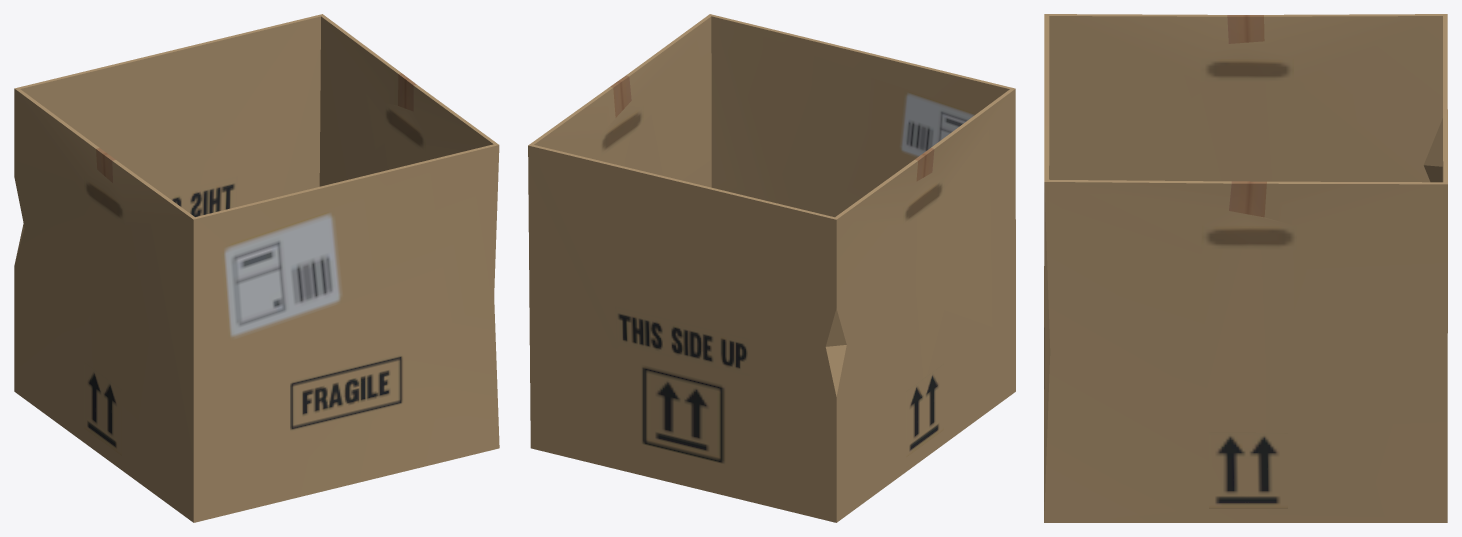
Rendered from SM_Prop_Warehouse_Cardboard_Box_03.002.obj.
3 views of the same model, side by side, from view 1: azimuth 30°, elevation 25°; view 2: azimuth 150°, elevation 25°; view 3: azimuth 270°, elevation 25° (orthographic). The views are drawn at different scales.
Parts seen in each view (by area): view 1: SM_Prop_Warehouse_Cardboard_Box_03.002_0; view 2: SM_Prop_Warehouse_Cardboard_Box_03.002_0; view 3: SM_Prop_Warehouse_Cardboard_Box_03.002_0.
Boxes of the visible parts, <box> form: SM_Prop_Warehouse_Cardboard_Box_03.002_0: <box>14,14,499,522</box>; SM_Prop_Warehouse_Cardboard_Box_03.002_0: <box>528,14,1015,522</box>; SM_Prop_Warehouse_Cardboard_Box_03.002_0: <box>1044,14,1447,522</box>.
Bounding box in the file's own units: 0.8452 × 0.7943 × 0.8521.
1 material, 1 textured.
